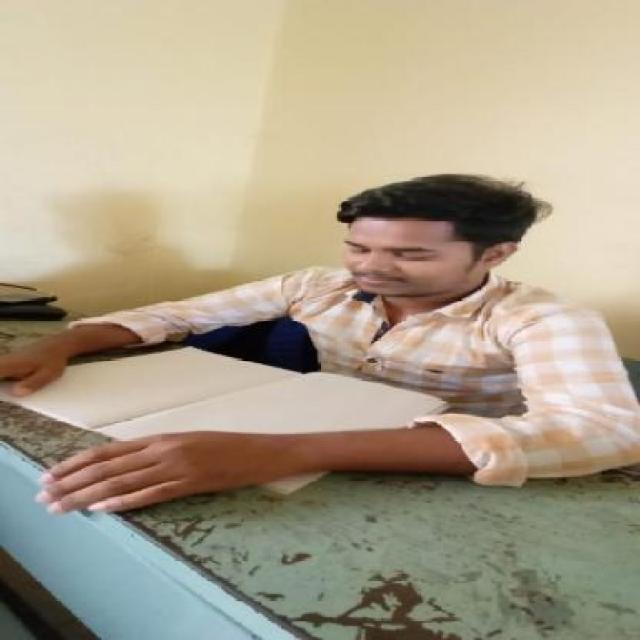good: (0, 172, 640, 526)
